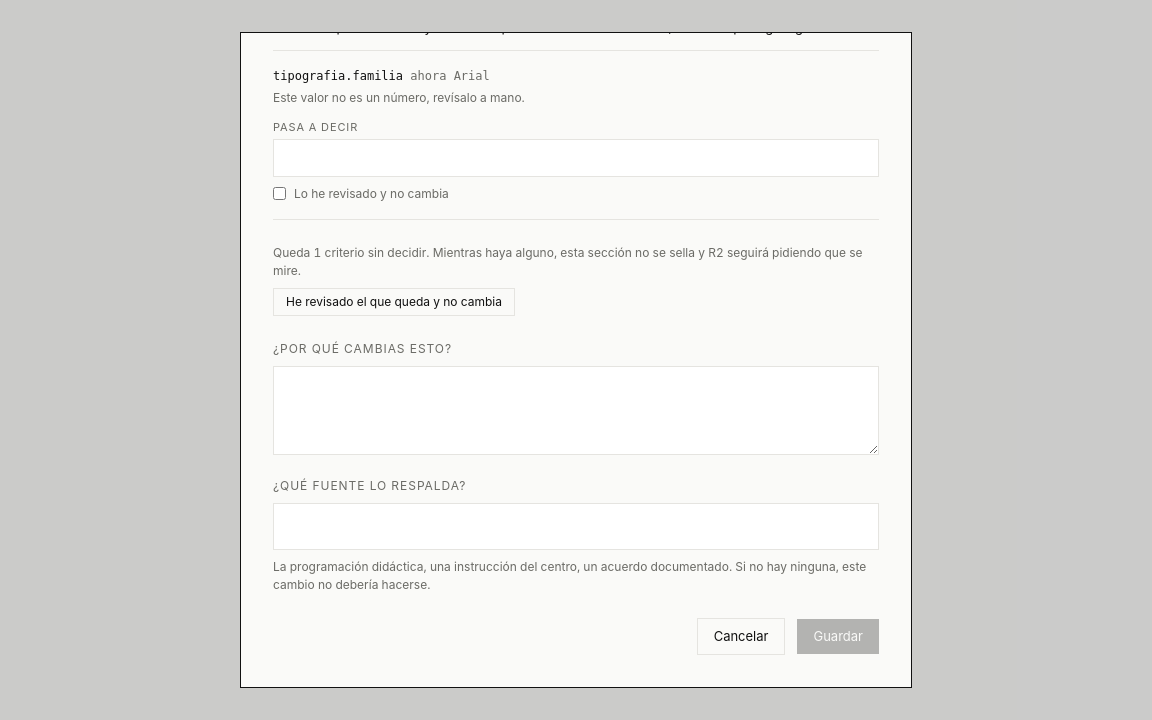
Test case: DialogoGuardar › deja guardar cuando estan los dos
The image size is (1152, 720).
(page scrolled)
In the text box labelled "¿Por qué cambias esto?": (576, 410) top-left (273, 366), bottom-right (879, 454), type "La programación lo sube"
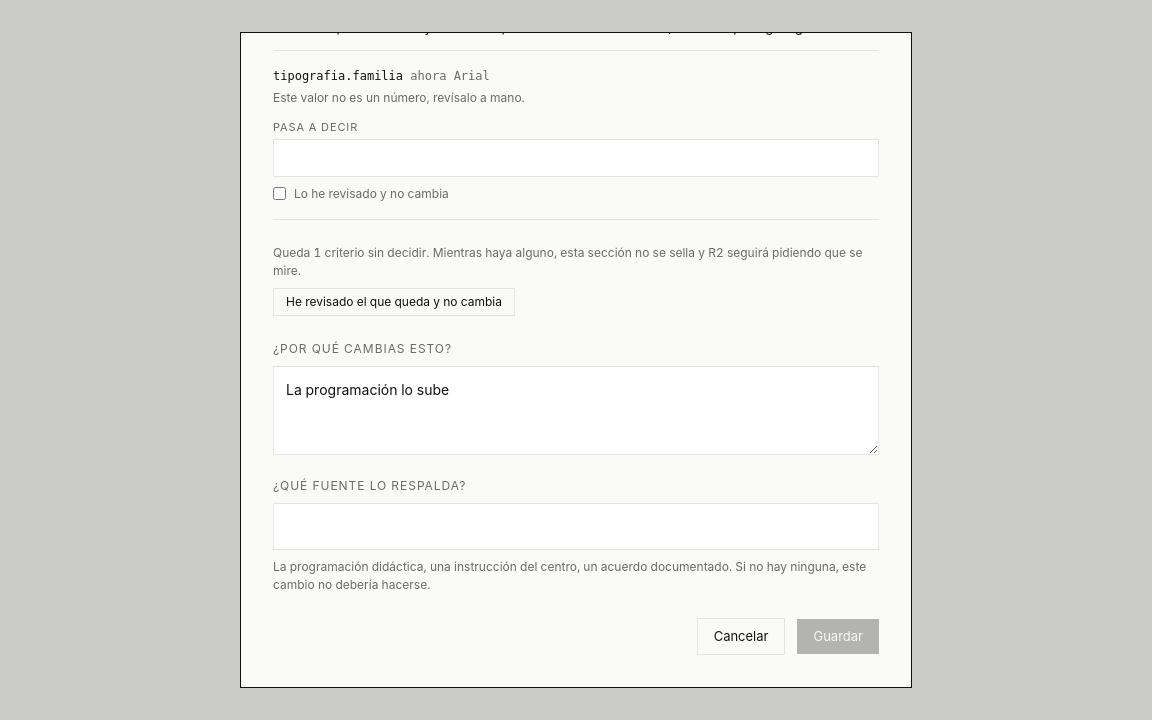
In the field labelled "fuente": (576, 526) top-left (273, 502), bottom-right (879, 550), type "Programación 2026-27"
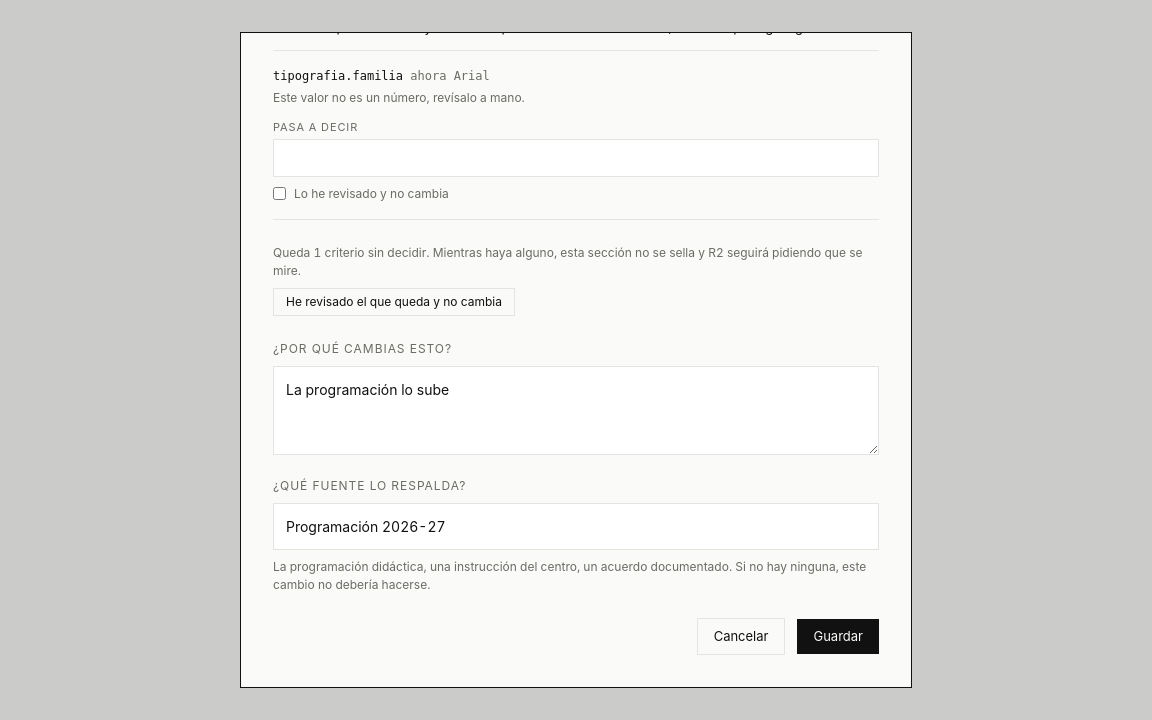
Expected: the button "Guardar" is enabled, top-left (798, 618), bottom-right (879, 654)
